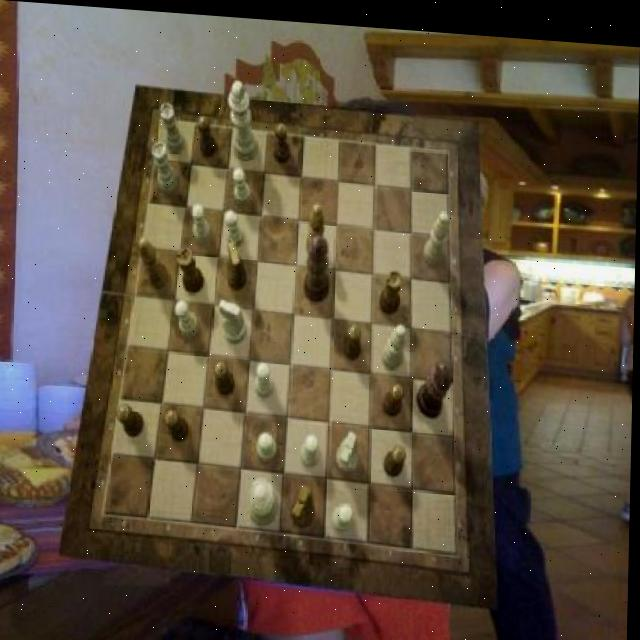bishop: (140, 235, 171, 289), (307, 197, 327, 252)
black-bishop: (418, 354, 455, 414)
black-king: (227, 237, 249, 287), (294, 479, 318, 523)
black-knight: (119, 401, 146, 437), (166, 406, 191, 441), (198, 112, 218, 155), (384, 377, 407, 412), (384, 440, 407, 473), (216, 358, 237, 393), (345, 319, 363, 356), (275, 119, 291, 160)
black-pawn: (306, 230, 333, 299)
black-queen: (178, 244, 207, 292), (379, 264, 403, 310)
black-rook: (425, 204, 450, 260), (383, 318, 408, 365)
white-bishop: (228, 76, 260, 158)
white-king: (221, 296, 249, 342), (338, 425, 362, 469)
white-knight: (176, 297, 201, 334), (225, 206, 246, 244), (232, 163, 252, 202), (192, 201, 211, 240), (256, 359, 276, 394), (302, 429, 321, 464), (334, 499, 356, 527), (258, 429, 279, 458)
white-pawn: (250, 474, 280, 523)
white-queen: (152, 138, 179, 191), (161, 100, 187, 151)
